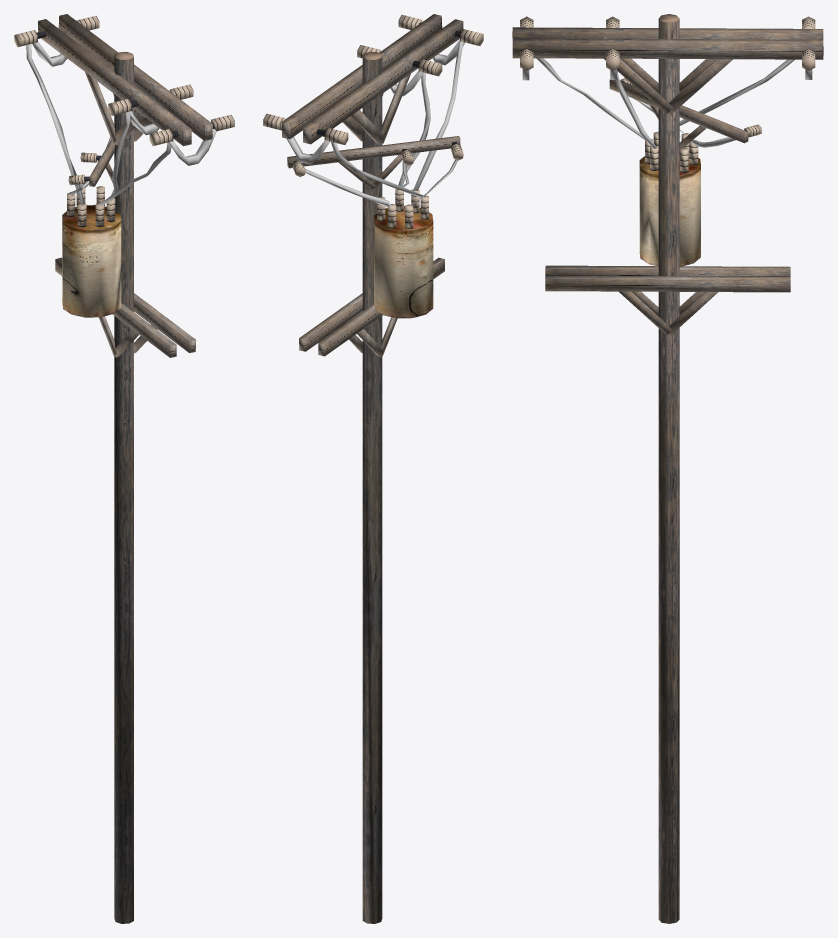
The model's file is PowerPoleTrans_1.fbx.
3 views of the same model, side by side, from view 1: azimuth 30°, elevation 25°; view 2: azimuth 150°, elevation 25°; view 3: azimuth 270°, elevation 25° (orthographic). The views are drawn at different scales.
Visible parts, largest first — view 1: main700, pole700, wires700; view 2: main700, pole700, wires700; view 3: main700, pole700, wires700.
Boxes of the visible parts, box(x1,y1,x2,y2) form: main700: box(14, 14, 234, 357); pole700: box(114, 52, 133, 923); wires700: box(26, 42, 216, 206); main700: box(263, 14, 483, 357); pole700: box(362, 51, 382, 923); wires700: box(287, 39, 464, 207); main700: box(512, 16, 823, 335); pole700: box(658, 14, 679, 923); wires700: box(522, 58, 812, 148).
Bounding box in the file's own units: 1.38 × 9.3 × 2.91.
